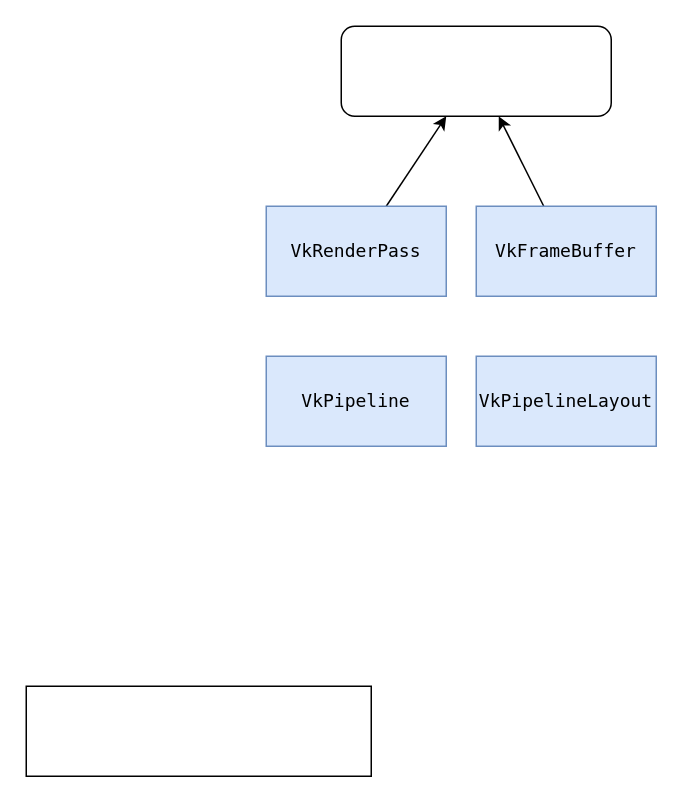
Image size: 683x803. Some labels were removed from this diagram. Here are the shapes that lost their labels. From the top down, the centre of each, then its label:
At point (475, 70): "VkRenderPassBeginInfo".
At point (198, 730): "VkGraphicsPipelineCreateInfo".
